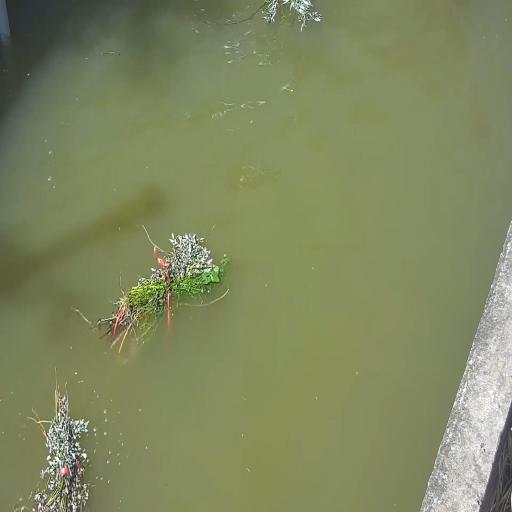twig: (84, 224, 230, 352), (22, 366, 93, 511), (259, 0, 320, 32)
